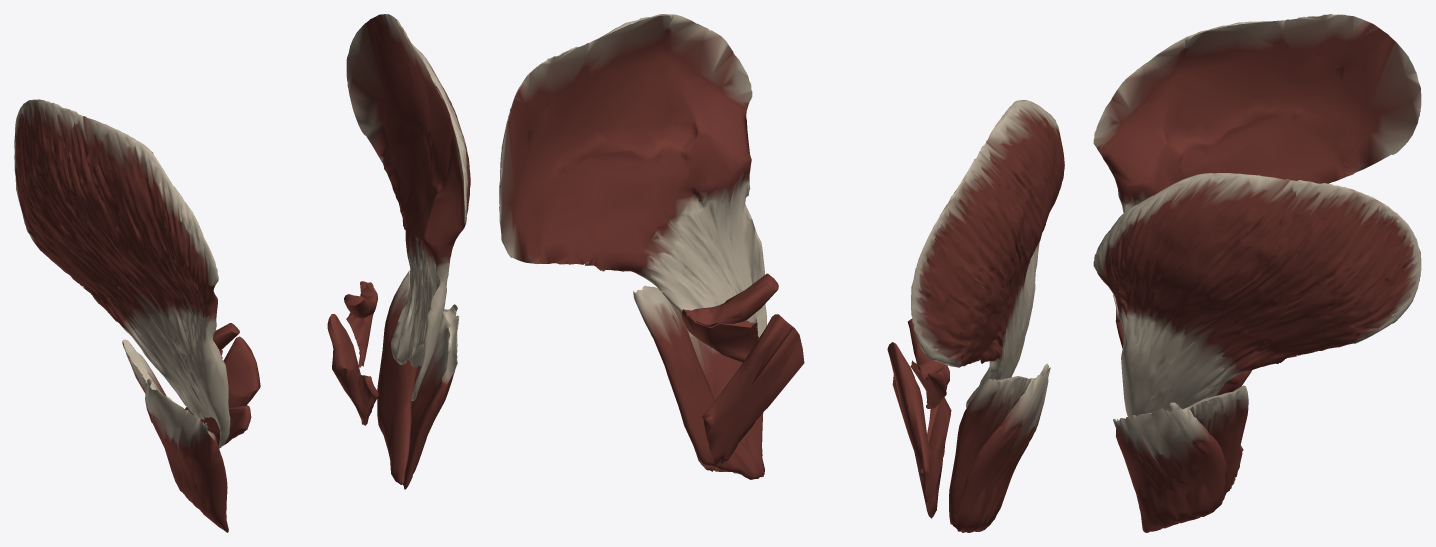
The model's file is musculo_mastigacao.glb.
The picture shows the model from 3 angles, left to right: view 1: azimuth 30°, elevation 25°; view 2: azimuth 150°, elevation 25°; view 3: azimuth 270°, elevation 25°; orthographic projection. The views are drawn at different scales.
Visible parts, largest first — view 1: Temporalis muscle.r, Temporalis muscle.l, Superficial part of masseter.r, Deep part of masseter.l, Superficial part of masseter.l, Medial pterygoid muscle.r, Medial pterygoid muscle.l, Deep part of masseter.r, Inferior head of lateral pterygoid muscle.l, Superior head of lateral pterygoid muscle.l; view 2: Temporalis muscle.l, Temporalis muscle.r, Medial pterygoid muscle.l, Deep part of masseter.l, Superficial part of masseter.r, Medial pterygoid muscle.r, Deep part of masseter.r, Superficial part of masseter.l, Superior head of lateral pterygoid muscle.l, Inferior head of lateral pterygoid muscle.l, Inferior head of lateral pterygoid muscle.r, Superior head of lateral pterygoid muscle.r; view 3: Temporalis muscle.l, Temporalis muscle.r, Superficial part of masseter.l, Deep part of masseter.l.
Part boxes in pixels (x1=…): Temporalis muscle.r: x1=14, y1=99, x2=230, y2=448; Temporalis muscle.l: x1=346, y1=14, x2=470, y2=400; Superficial part of masseter.r: x1=145, y1=379, x2=228, y2=532; Deep part of masseter.l: x1=377, y1=270, x2=445, y2=484; Superficial part of masseter.l: x1=403, y1=304, x2=459, y2=489; Medial pterygoid muscle.r: x1=185, y1=336, x2=260, y2=447; Medial pterygoid muscle.l: x1=327, y1=314, x2=378, y2=425; Deep part of masseter.r: x1=122, y1=339, x2=166, y2=396; Inferior head of lateral pterygoid muscle.l: x1=346, y1=281, x2=373, y2=367; Superior head of lateral pterygoid muscle.l: x1=344, y1=283, x2=377, y2=318; Temporalis muscle.l: x1=499, y1=14, x2=766, y2=348; Temporalis muscle.r: x1=911, y1=100, x2=1064, y2=407; Medial pterygoid muscle.l: x1=702, y1=314, x2=804, y2=466; Deep part of masseter.l: x1=633, y1=285, x2=763, y2=479; Superficial part of masseter.r: x1=952, y1=363, x2=1050, y2=532; Medial pterygoid muscle.r: x1=887, y1=342, x2=951, y2=518; Deep part of masseter.r: x1=949, y1=376, x2=1033, y2=532; Superficial part of masseter.l: x1=687, y1=320, x2=764, y2=477; Superior head of lateral pterygoid muscle.l: x1=685, y1=273, x2=778, y2=326; Inferior head of lateral pterygoid muscle.l: x1=682, y1=309, x2=758, y2=362; Inferior head of lateral pterygoid muscle.r: x1=910, y1=360, x2=947, y2=408; Superior head of lateral pterygoid muscle.r: x1=908, y1=318, x2=949, y2=385; Temporalis muscle.l: x1=1093, y1=173, x2=1421, y2=416; Temporalis muscle.r: x1=1093, y1=14, x2=1421, y2=213; Superficial part of masseter.l: x1=1113, y1=402, x2=1226, y2=532; Deep part of masseter.l: x1=1182, y1=385, x2=1248, y2=501.
Size of the model in its own units: 0.1537 by 0.1498 by 0.1139.
